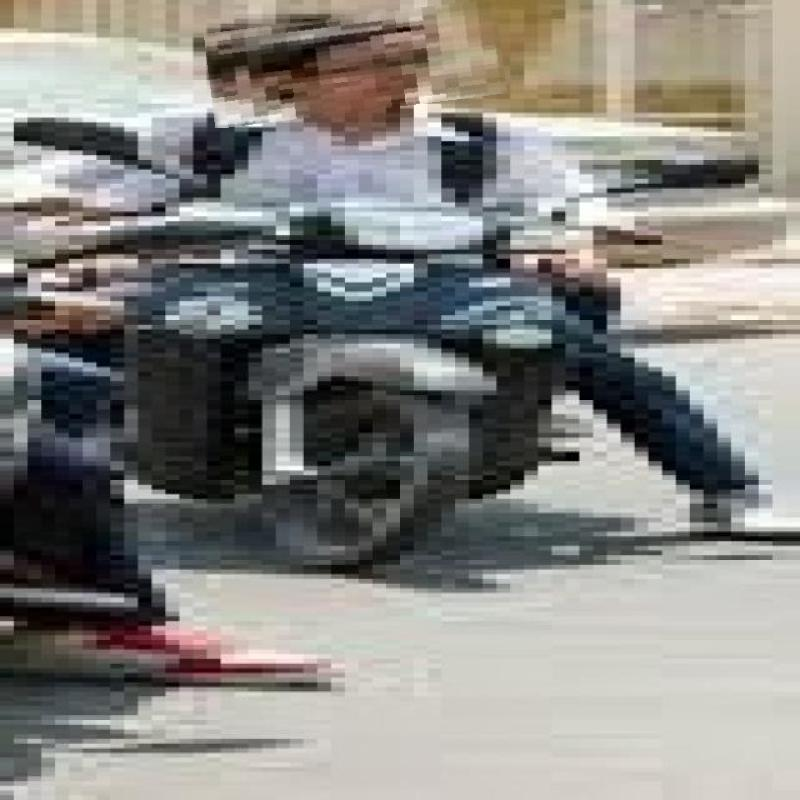nohelmet: (206, 6, 505, 120)
